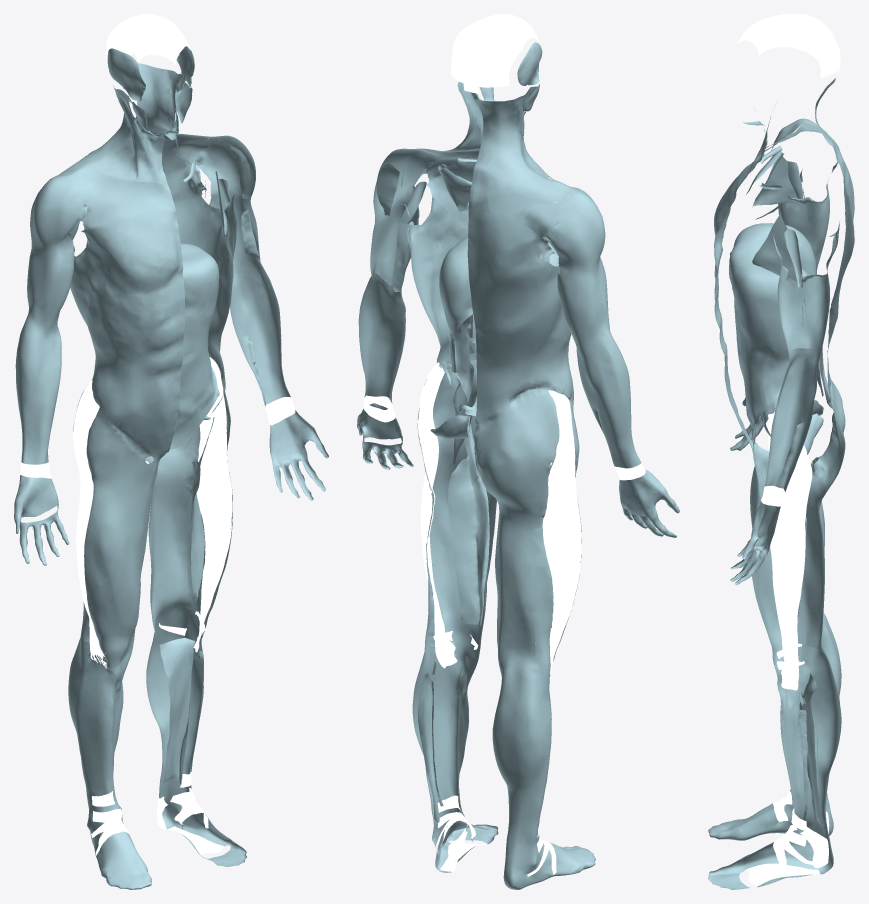
File: faszien.glb
3 renders of one model, left to right at view 1: azimuth 30°, elevation 25°; view 2: azimuth 150°, elevation 25°; view 3: azimuth 270°, elevation 25°, orthographic. The views are drawn at different scales.
Parts seen in each view (by area): view 1: Investing abdominal fascia.r, Fascia lata.r, Crural fascia.r, Pectoral fascia.r, Crural fascia.l, Fascia lata.l, Iliotibial tract.l, Investing abdominal fascia.l, Antebrachial fascia.r, Antebrachial fascia.l, Transversalis fascia, Superficial investing cervical fascia.r (+15 smaller); view 2: Investing abdominal fascia.r, Fascia lata.r, Crural fascia.r, Crural fascia.l, Superficial investing cervical fascia.r, Fascia lata.l, Iliotibial tract.r, Medial femoral intermuscular septum.l, Antebrachial fascia.r, Antebrachial fascia.l, Investing abdominal fascia.l, Deltoid fascia.r (+19 smaller); view 3: Crural fascia.l, Fascia lata.l, Iliotibial tract.l, Diaphragmatic fascia, Antebrachial fascia.l, Brachial fascia.l, Epicranial aponeurosis.l, Transversalis fascia, Crural fascia.r, Clavipectoral fascia.l, Investing abdominal fascia.l, Brachial fascia.r (+16 smaller).
Boxes of the visible parts, x1=… form: Investing abdominal fascia.r: x1=70, y1=239, x2=184, y2=457; Fascia lata.r: x1=73, y1=391, x2=165, y2=658; Crural fascia.r: x1=68, y1=638, x2=151, y2=889; Pectoral fascia.r: x1=78, y1=178, x2=182, y2=294; Crural fascia.l: x1=146, y1=610, x2=246, y2=866; Fascia lata.l: x1=145, y1=377, x2=232, y2=632; Iliotibial tract.l: x1=193, y1=357, x2=232, y2=652; Investing abdominal fascia.l: x1=162, y1=142, x2=233, y2=450; Antebrachial fascia.r: x1=15, y1=315, x2=61, y2=464; Antebrachial fascia.l: x1=230, y1=259, x2=290, y2=406; Transversalis fascia: x1=169, y1=275, x2=219, y2=449; Superficial investing cervical fascia.r: x1=56, y1=85, x2=167, y2=184; Investing abdominal fascia.r: x1=467, y1=207, x2=573, y2=426; Fascia lata.r: x1=474, y1=389, x2=581, y2=677; Crural fascia.r: x1=492, y1=666, x2=595, y2=889; Crural fascia.l: x1=412, y1=641, x2=498, y2=872; Superficial investing cervical fascia.r: x1=468, y1=86, x2=570, y2=216; Fascia lata.l: x1=417, y1=371, x2=496, y2=650; Iliotibial tract.r: x1=542, y1=390, x2=581, y2=677; Medial femoral intermuscular septum.l: x1=448, y1=424, x2=489, y2=626; Antebrachial fascia.r: x1=575, y1=330, x2=641, y2=468; Antebrachial fascia.l: x1=358, y1=272, x2=405, y2=403; Investing abdominal fascia.l: x1=401, y1=197, x2=475, y2=387; Deltoid fascia.r: x1=521, y1=173, x2=605, y2=274; Crural fascia.l: x1=708, y1=646, x2=841, y2=889; Fascia lata.l: x1=751, y1=399, x2=845, y2=667; Iliotibial tract.l: x1=768, y1=412, x2=812, y2=690; Diaphragmatic fascia: x1=730, y1=223, x2=816, y2=359; Antebrachial fascia.l: x1=764, y1=348, x2=820, y2=491; Brachial fascia.l: x1=777, y1=245, x2=832, y2=355; Epicranial aponeurosis.l: x1=738, y1=18, x2=840, y2=78; Transversalis fascia: x1=729, y1=253, x2=789, y2=445; Crural fascia.r: x1=708, y1=618, x2=841, y2=840; Clavipectoral fascia.l: x1=752, y1=182, x2=803, y2=287; Investing abdominal fascia.l: x1=714, y1=185, x2=854, y2=448; Brachial fascia.r: x1=778, y1=170, x2=832, y2=260.
Bounding box in the file's own units: 0.6708 × 1.7 × 0.2685.
